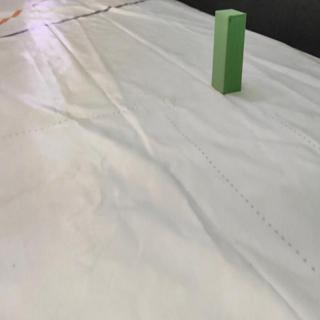greenbox: (211, 7, 247, 94)
